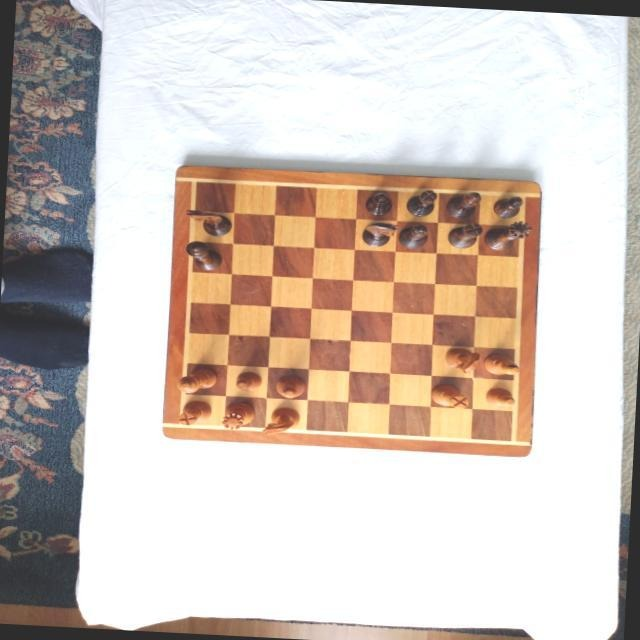black-bishop: (446, 190, 481, 218), (397, 223, 428, 249)
black-king: (185, 240, 223, 271), (362, 220, 398, 247)
black-knight: (184, 208, 231, 236)
black-pawn: (492, 193, 524, 218), (363, 191, 393, 215)
black-queen: (483, 218, 532, 250)
black-rook: (448, 219, 483, 248), (406, 187, 437, 216)
white-bishop: (483, 352, 520, 376), (274, 373, 305, 399)
white-king: (176, 366, 216, 394)
white-knight: (260, 405, 299, 436), (444, 346, 480, 374)
white-pawn: (484, 386, 515, 408), (234, 370, 262, 391)
white-queen: (220, 401, 255, 431)
white-rook: (430, 382, 469, 409), (178, 398, 212, 426)
